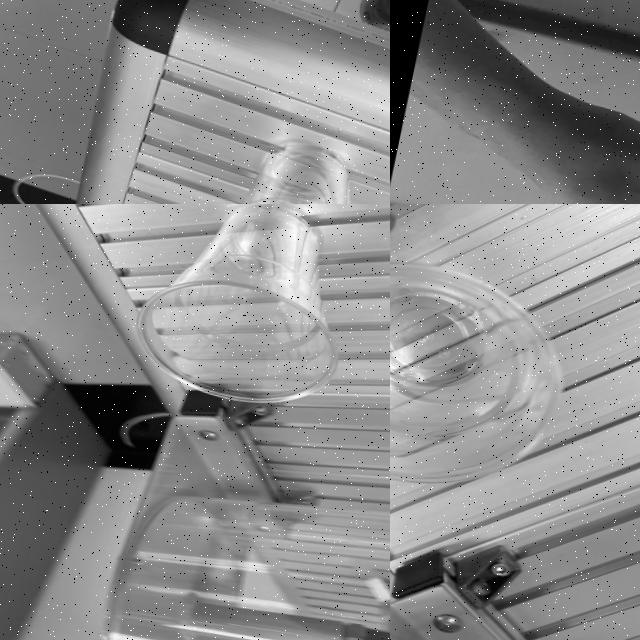glass: (390, 232, 595, 513), (116, 204, 374, 425), (185, 123, 390, 204)
